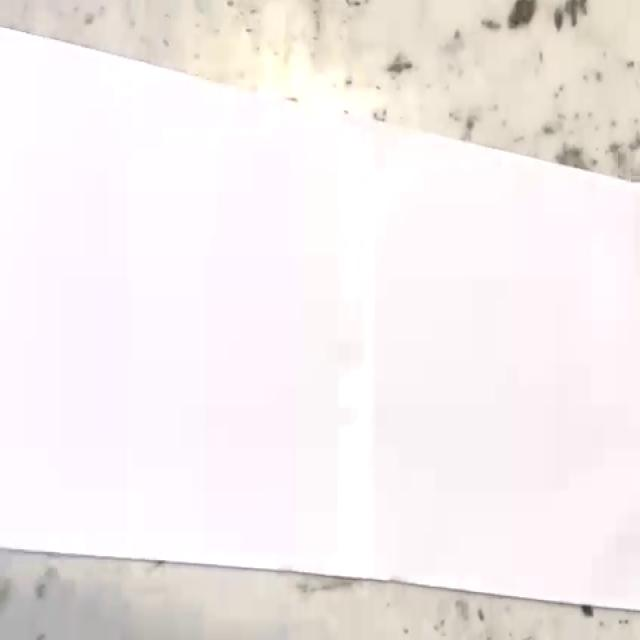road: (0, 28, 640, 609)
